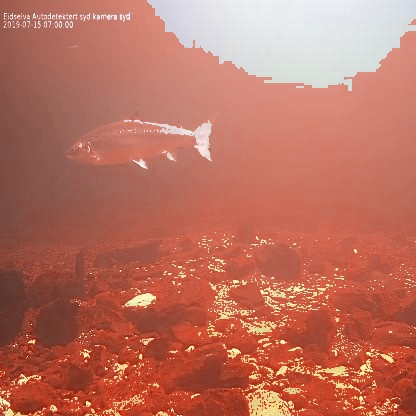salmon: (63, 107, 219, 173)
